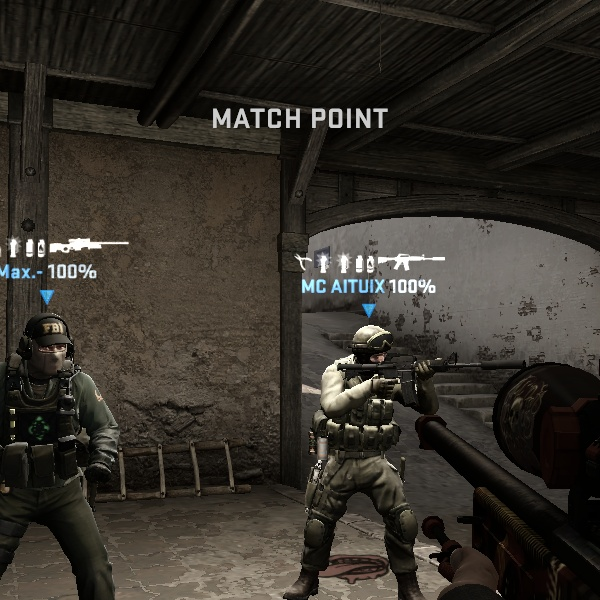ct_body: (276, 313, 455, 600), (1, 308, 129, 595)
ct_head: (12, 310, 86, 389), (347, 319, 403, 377)
